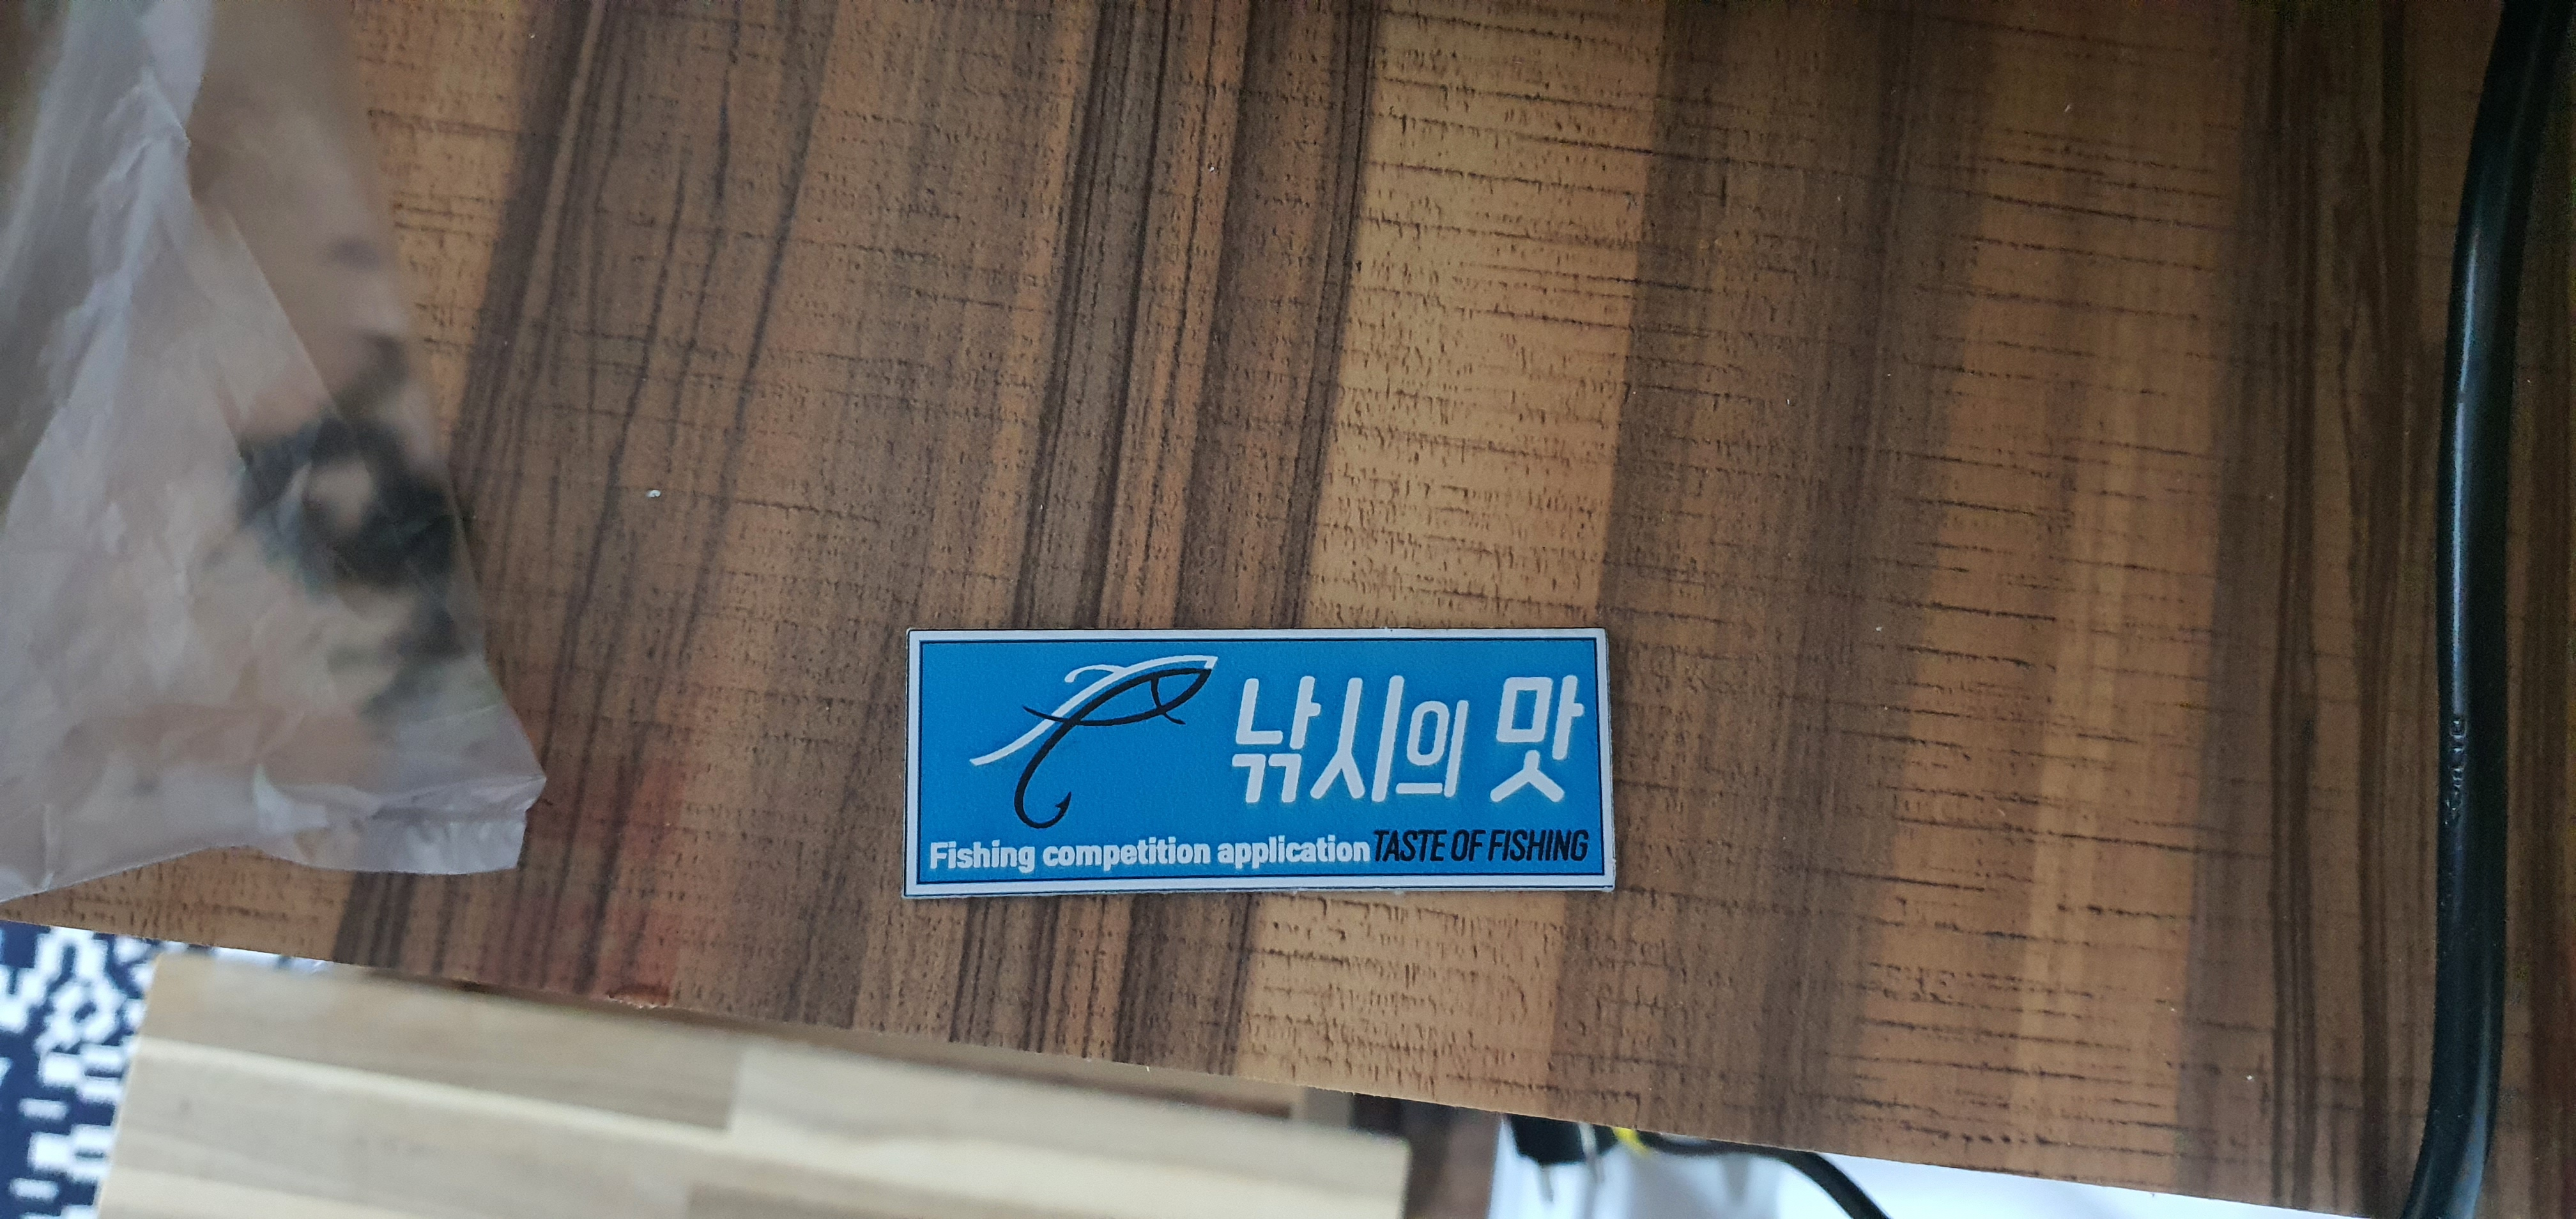tag: (904, 623, 1613, 897)
